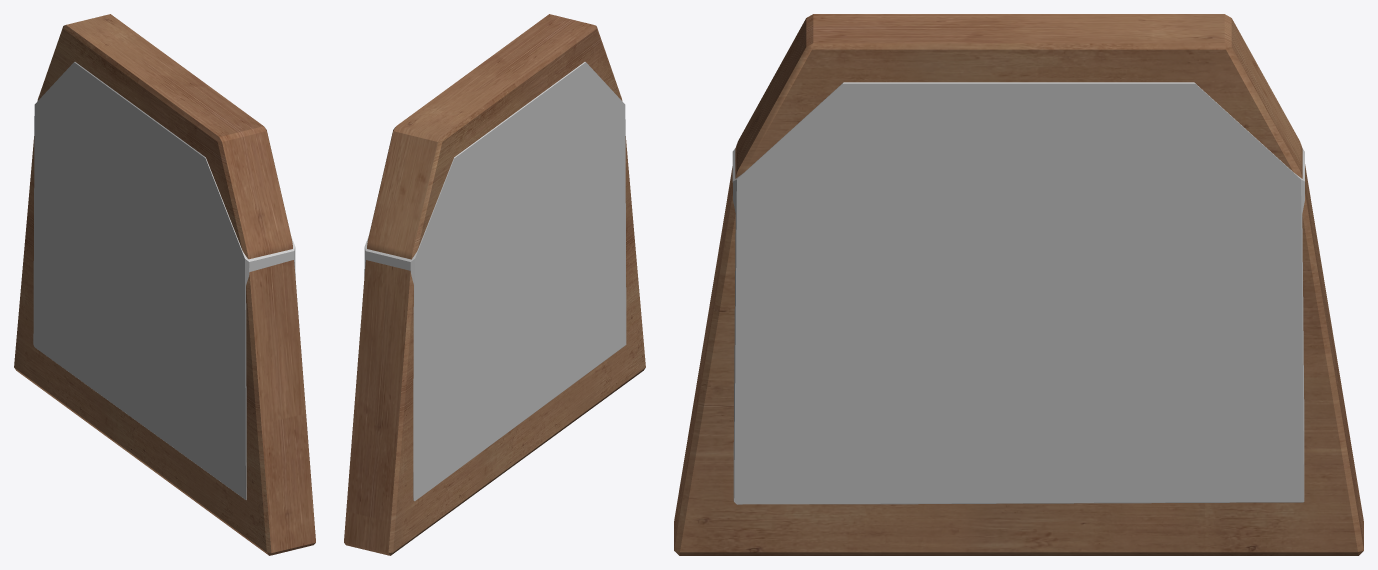
Rendered from SM_HBJ_WoodornamentD.fbx.
The picture shows the model from 3 angles, left to right: view 1: azimuth 30°, elevation 25°; view 2: azimuth 150°, elevation 25°; view 3: azimuth 270°, elevation 25°; orthographic projection. The views are drawn at different scales.
Visible parts, largest first — view 1: SM_HBJ_WoodornamentD_ConvexHulls, SM_HBJ_WoodornamentD; view 2: SM_HBJ_WoodornamentD_ConvexHulls, SM_HBJ_WoodornamentD; view 3: SM_HBJ_WoodornamentD_ConvexHulls, SM_HBJ_WoodornamentD.
Boxes of the visible parts, x1,y1,x2,y2 form: SM_HBJ_WoodornamentD_ConvexHulls: (33, 62, 295, 500); SM_HBJ_WoodornamentD: (14, 14, 315, 555); SM_HBJ_WoodornamentD_ConvexHulls: (364, 62, 626, 501); SM_HBJ_WoodornamentD: (344, 14, 645, 555); SM_HBJ_WoodornamentD_ConvexHulls: (732, 82, 1304, 504); SM_HBJ_WoodornamentD: (674, 14, 1363, 555).
Bounding box in the file's own units: 7.64 × 67.38 × 55.26.
2 materials, 1 textured.
